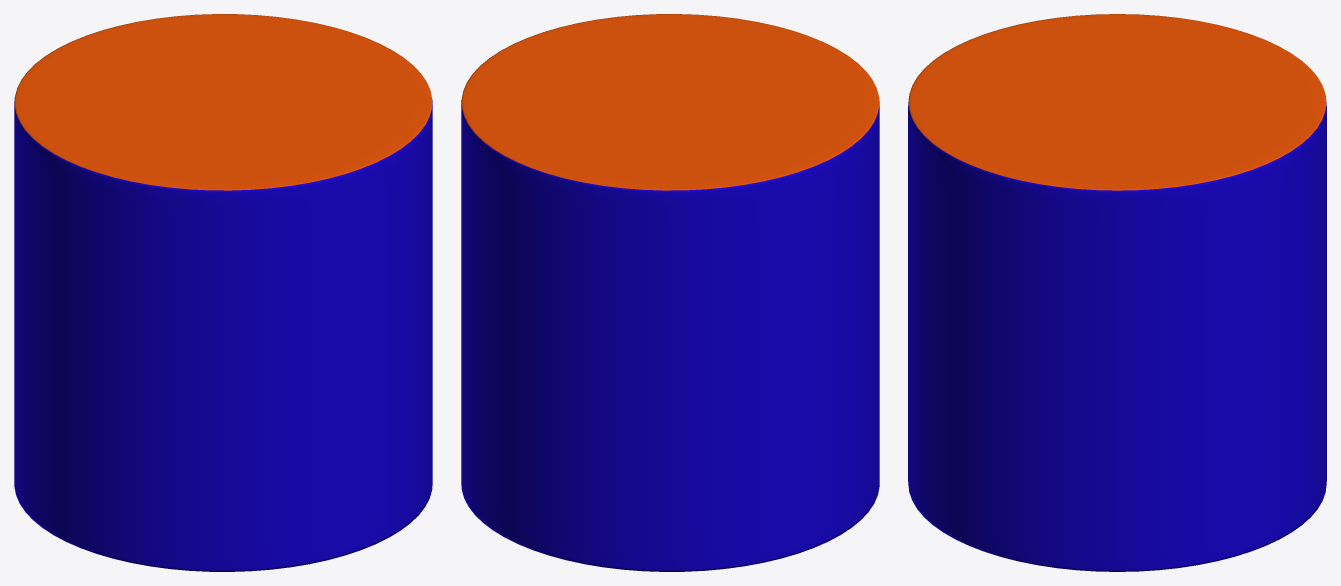
File: Tree.fbx
3 views of the same model, side by side, from view 1: azimuth 30°, elevation 25°; view 2: azimuth 150°, elevation 25°; view 3: azimuth 270°, elevation 25° (orthographic).
Visible parts, largest first — view 1: Cylinder; view 2: Cylinder; view 3: Cylinder.
Boxes of the visible parts, left/top/right/bottom form: Cylinder: left=14, top=14, right=432, bottom=571; Cylinder: left=461, top=14, right=879, bottom=571; Cylinder: left=908, top=14, right=1326, bottom=571.
Bounding box in the file's own units: 199 × 200 × 199.
